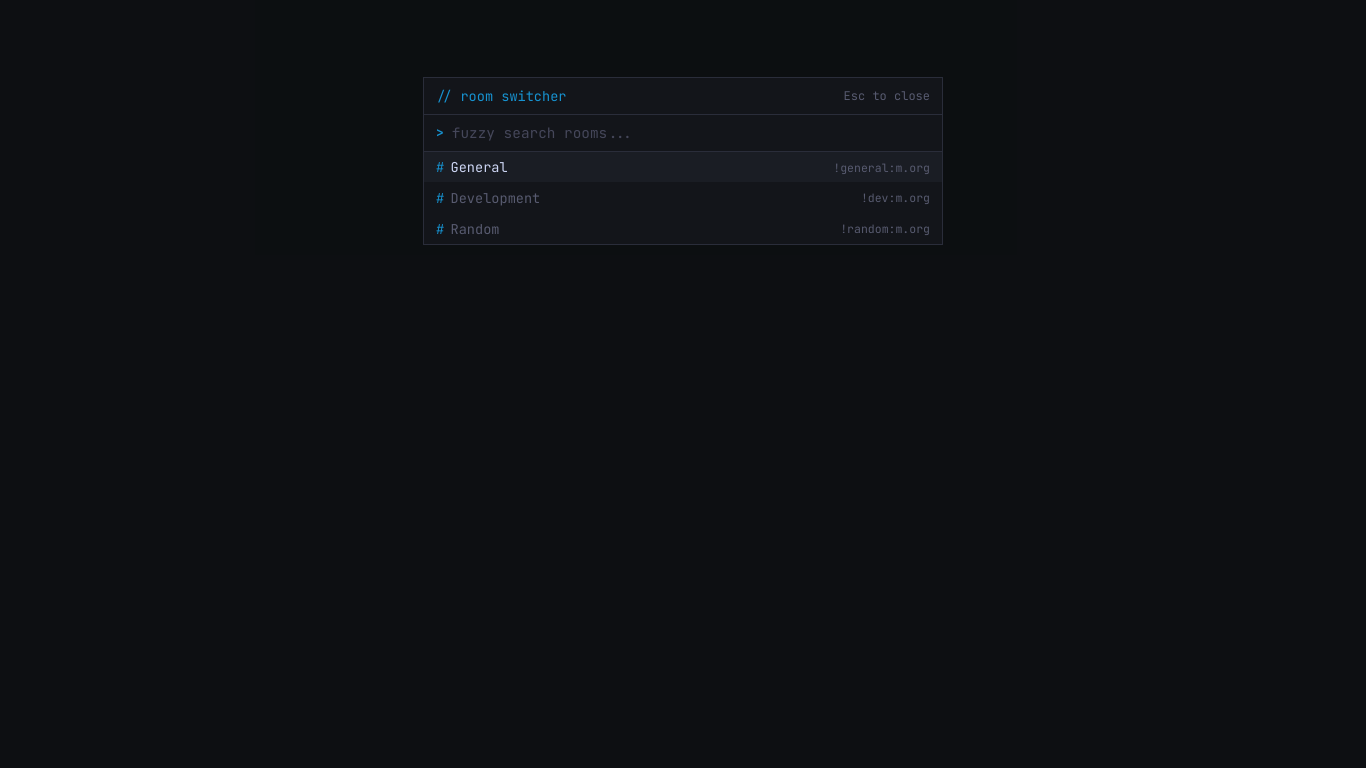
Test: RoomSwitcher › shows "no rooms match" when filter has no results
Type "zzznomatch" into the field with placeholder "fuzzy search rooms...". click: (691, 133)
box: [452,123,930,142]
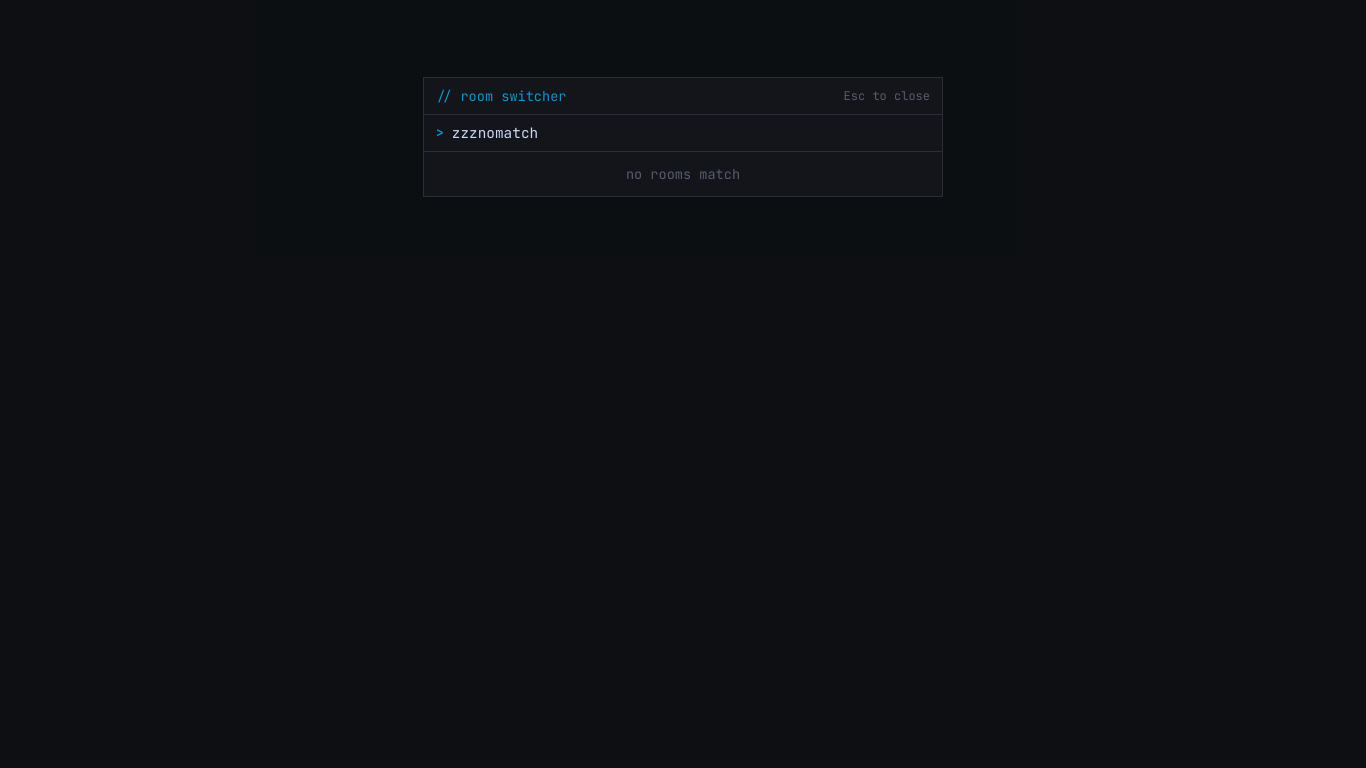
Check: the text "no rooms match" is shown, box [626,165,740,183]
